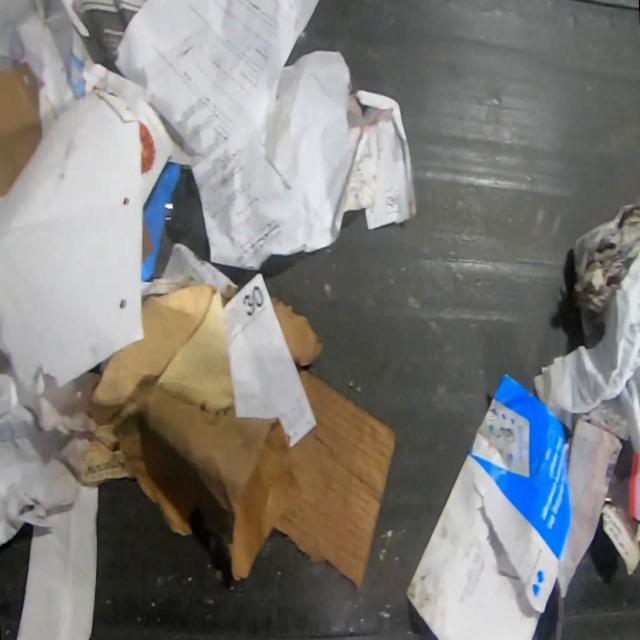cardboard: (77, 279, 236, 486), (274, 365, 398, 592), (0, 61, 45, 199), (143, 162, 184, 282)
rigid_plastic: (162, 184, 192, 246)
